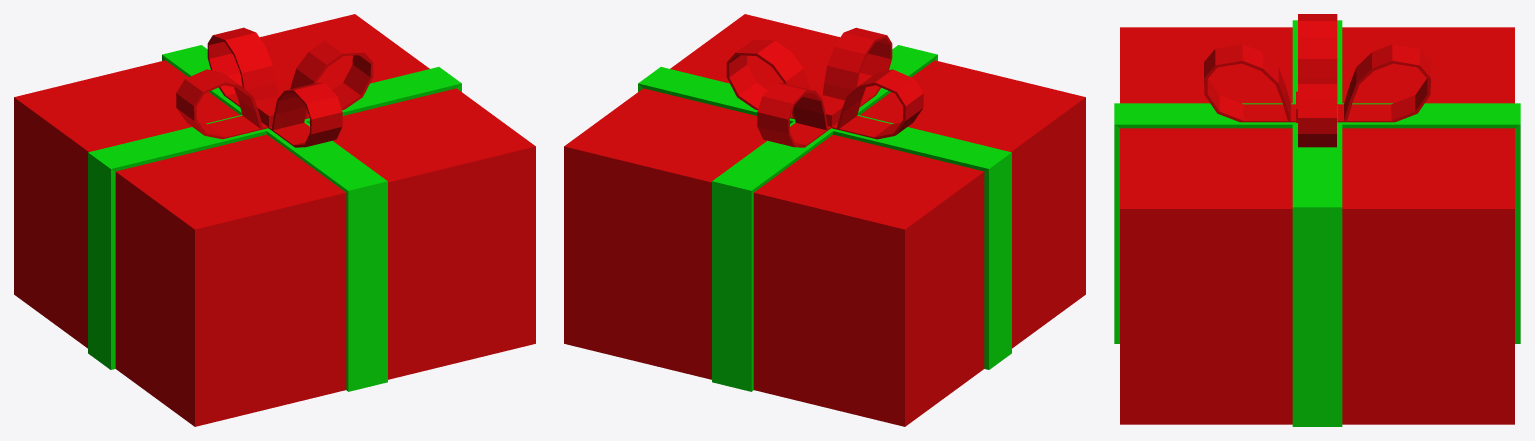
The model's file is Presents_2.fbx.
3 views of the same model, side by side, from view 1: azimuth 30°, elevation 25°; view 2: azimuth 150°, elevation 25°; view 3: azimuth 270°, elevation 25° (orthographic). The views are drawn at different scales.
Visible parts, largest first — view 1: Present_1, Bow_1; view 2: Present_1, Bow_1; view 3: Present_1, Bow_1.
Part boxes in pixels (x1,y1,x2,y2): Present_1: (14, 14, 535, 426); Bow_1: (176, 27, 373, 147); Present_1: (564, 14, 1085, 426); Bow_1: (726, 27, 923, 147); Present_1: (1114, 20, 1520, 426); Bow_1: (1204, 14, 1430, 147).
Bounding box in the file's own units: 45.03 × 31.58 × 41.38.
